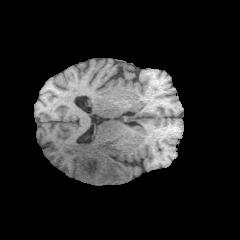glioma: (63, 137, 137, 182)
